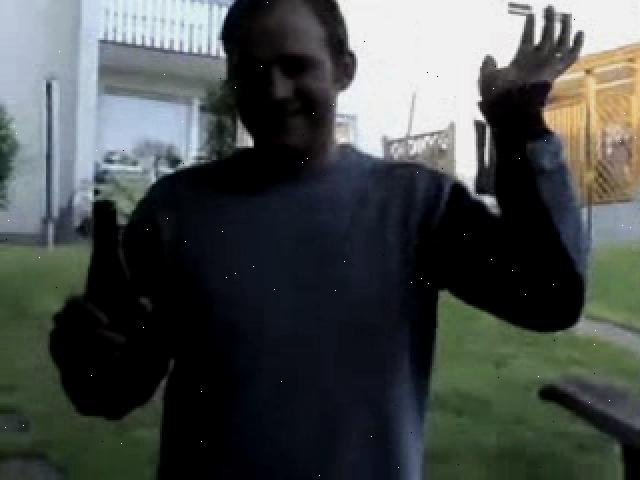L: (43, 0, 599, 480)
